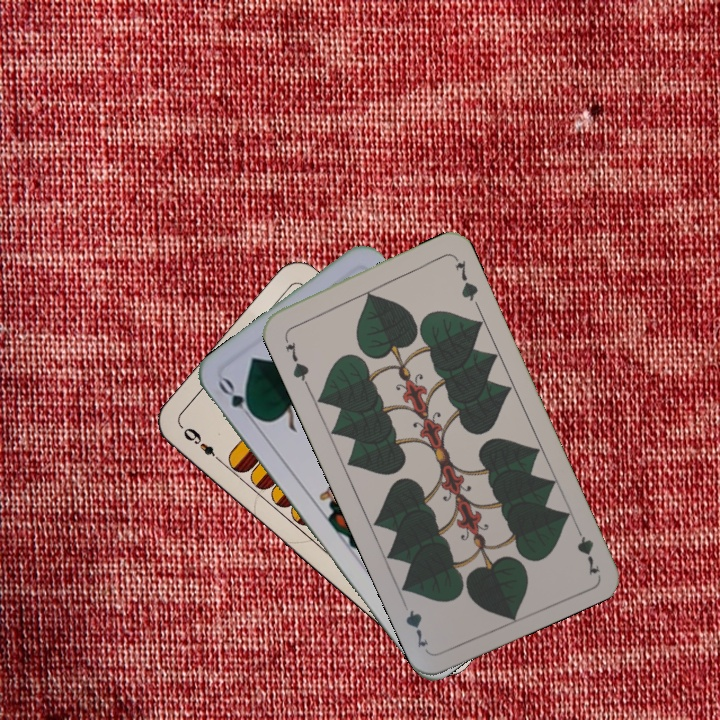E9: (179, 423, 225, 466)
G7: (570, 519, 602, 578), (280, 331, 312, 388)
GO: (214, 374, 262, 426)
